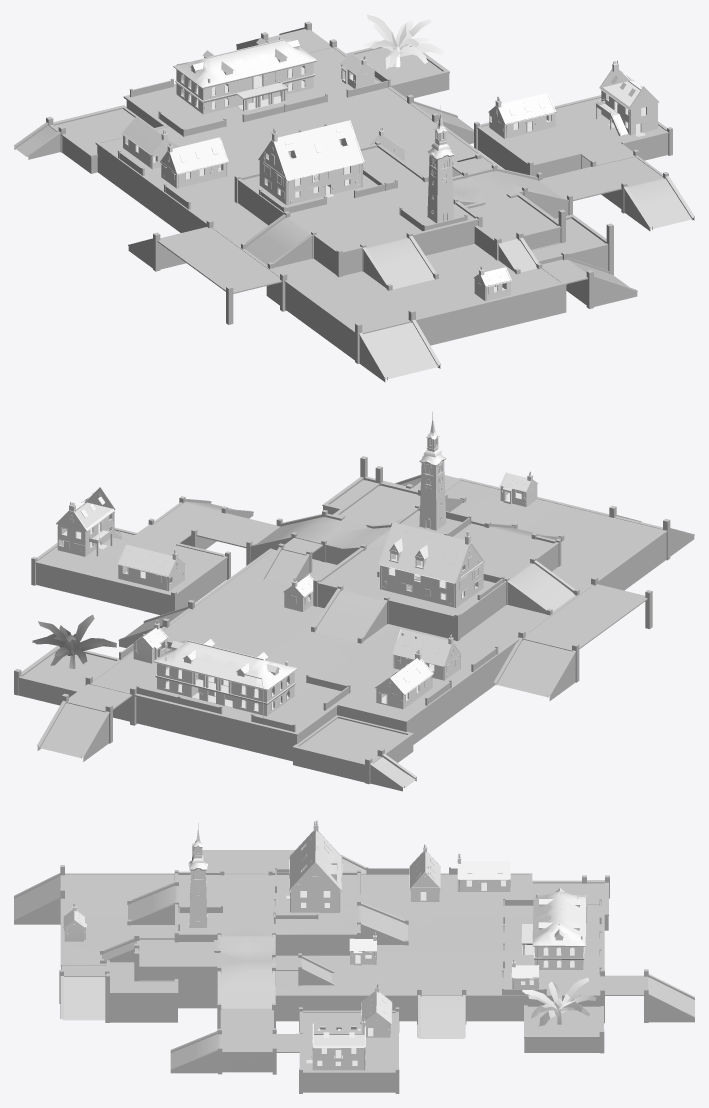
File: Clocktower.glb
The picture shows the model from 3 angles, top to bottom: view 1: azimuth 30°, elevation 25°; view 2: azimuth 150°, elevation 25°; view 3: azimuth 270°, elevation 25°; orthographic projection. The views are drawn at different scales.
Visible parts, largest first — view 1: Base_02_LOD0_0, mansion_LOD0_2, mansion_LOD0_3, Zone_A_House_Huge_A_LOD0_1, Zone_A_House_Huge_A_LOD0_2, Tower_01_LOD0_0, Mesh_0002.rip.002, Zone_A_House_Huge_A_LOD0_0, Zone_A_House_Big_B_LOD0_1, Zone_A_House_Big_B_LOD0_2, Zone_A_House_Medium_B_LOD0_3.002, Zone_A_House_Medium_A_LOD0_3 (+7 smaller); view 2: Base_02_LOD0_0, mansion_LOD0_2, mansion_LOD0_3, Zone_A_House_Huge_A_LOD0_1, Zone_A_House_Huge_A_LOD0_2, Tower_01_LOD0_0, Zone_A_House_Huge_A_LOD0_0, Zone_A_House_Big_B_LOD0_1, Mesh_0002.rip.002, Zone_A_House_Big_B_LOD0_2, Zone_A_House_Medium_B_LOD0_3.002, Zone_A_House_Medium_A_LOD0_3 (+8 smaller); view 3: Base_02_LOD0_0, mansion_LOD0_2, Zone_A_House_Huge_A_LOD0_1, Zone_A_House_Huge_A_LOD0_2, Zone_A_House_Big_B_LOD0_1, Mesh_0002.rip.002, Tower_01_LOD0_0, mansion_LOD0_3, Zone_A_House_Huge_A_LOD0_0, Zone_A_House_Big_B_LOD0_2, Zone_A_House_Medium_A_LOD0_3.007, Zone_A_House_Medium_B_LOD0_3.002 (+6 smaller).
Boxes of the visible parts, x1,y1,x2,y2 form: Base_02_LOD0_0: (14,21,694,381); mansion_LOD0_2: (173,37,317,109); mansion_LOD0_3: (175,37,316,114); Zone_A_House_Huge_A_LOD0_1: (275,120,363,180); Zone_A_House_Huge_A_LOD0_2: (259,133,362,204); Tower_01_LOD0_0: (427,105,453,223); Mesh_0002.rip.002: (363,14,444,69); Zone_A_House_Huge_A_LOD0_0: (258,120,364,205); Zone_A_House_Big_B_LOD0_1: (596,60,659,136); Zone_A_House_Big_B_LOD0_2: (601,63,657,136); Zone_A_House_Medium_B_LOD0_3.002: (170,137,227,178); Zone_A_House_Medium_A_LOD0_3: (500,93,554,123); Base_02_LOD0_0: (14,456,694,791); mansion_LOD0_2: (153,639,297,706); mansion_LOD0_3: (154,645,295,717); Zone_A_House_Huge_A_LOD0_1: (379,522,467,582); Zone_A_House_Huge_A_LOD0_2: (380,535,482,607); Tower_01_LOD0_0: (419,411,446,530); Zone_A_House_Huge_A_LOD0_0: (378,522,484,607); Zone_A_House_Big_B_LOD0_1: (56,486,121,556); Mesh_0002.rip.002: (32,614,116,668); Zone_A_House_Big_B_LOD0_2: (58,489,114,556); Zone_A_House_Medium_B_LOD0_3.002: (393,629,450,670); Zone_A_House_Medium_A_LOD0_3: (119,545,174,576); Base_02_LOD0_0: (14,843,694,1093); mansion_LOD0_2: (523,888,586,954); Zone_A_House_Huge_A_LOD0_1: (289,830,341,896); Zone_A_House_Huge_A_LOD0_2: (291,824,339,912); Zone_A_House_Big_B_LOD0_1: (311,1018,365,1070); Mesh_0002.rip.002: (522,977,596,1027); Tower_01_LOD0_0: (188,823,207,927); mansion_LOD0_3: (521,893,587,969); Zone_A_House_Huge_A_LOD0_0: (286,820,342,912); Zone_A_House_Big_B_LOD0_2: (306,1020,365,1070); Zone_A_House_Medium_A_LOD0_3.007: (459,861,509,879); Zone_A_House_Medium_B_LOD0_3.002: (410,851,440,899).
Size of the model in its own units: 87.25 by 27.57 by 114.
38 materials, 1 textured.
